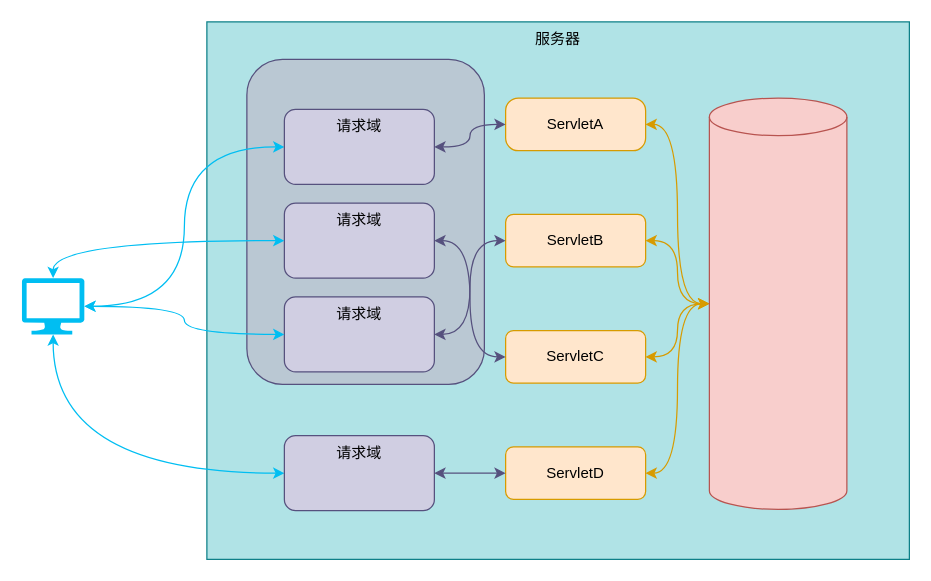
Image size: 931x581. Some labels were removed from this diagram. Each missing label, with the box of its shape:
会话域: (246, 58, 484, 384)
应用域: (708, 97, 847, 509)
